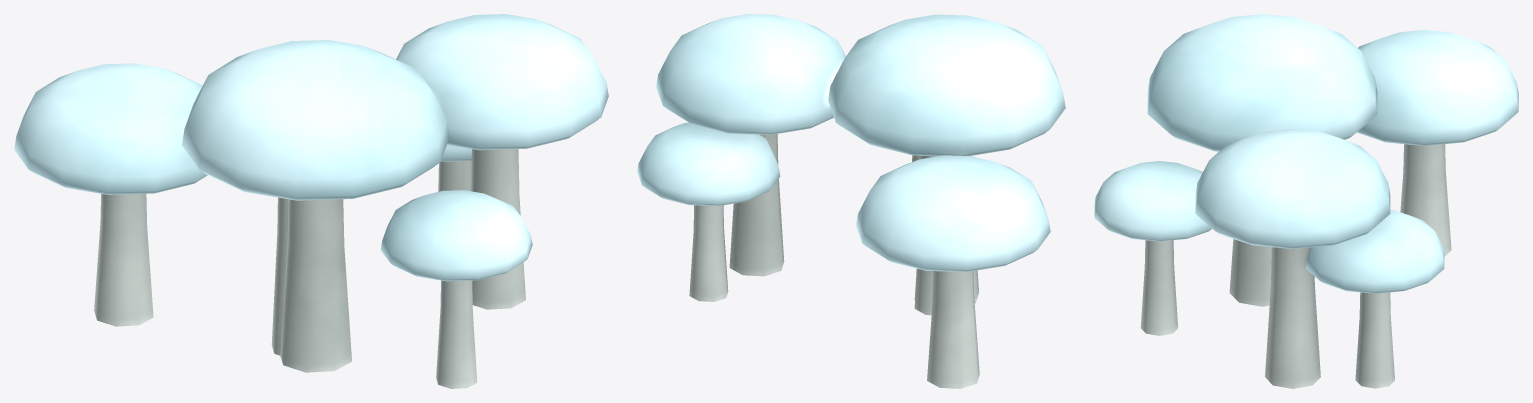
File: underworld-flora-blackwater-pearl-caps.glb
3 views of the same model, side by side, from view 1: azimuth 30°, elevation 25°; view 2: azimuth 150°, elevation 25°; view 3: azimuth 270°, elevation 25° (orthographic). The views are drawn at different scales.
Visible parts, largest first — view 1: caps, stalks; view 2: caps, stalks; view 3: caps, stalks.
Boxes of the visible parts, <box> form: caps: <box>14,14,608,281</box>; stalks: <box>94,149,525,388</box>; caps: <box>637,14,1065,271</box>; stalks: <box>689,134,979,388</box>; caps: <box>1094,14,1518,293</box>; stalks: <box>1140,144,1451,388</box>.
Size of the model in its own units: 0.4601 by 0.2629 by 0.393.
Materials: 2 (2 with a texture image).
